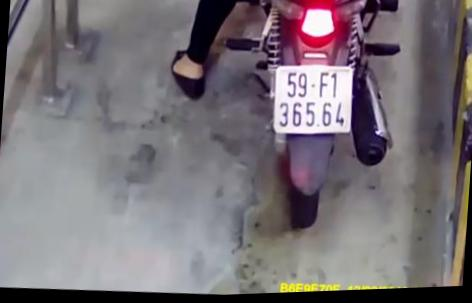LP: (270, 63, 355, 141)
